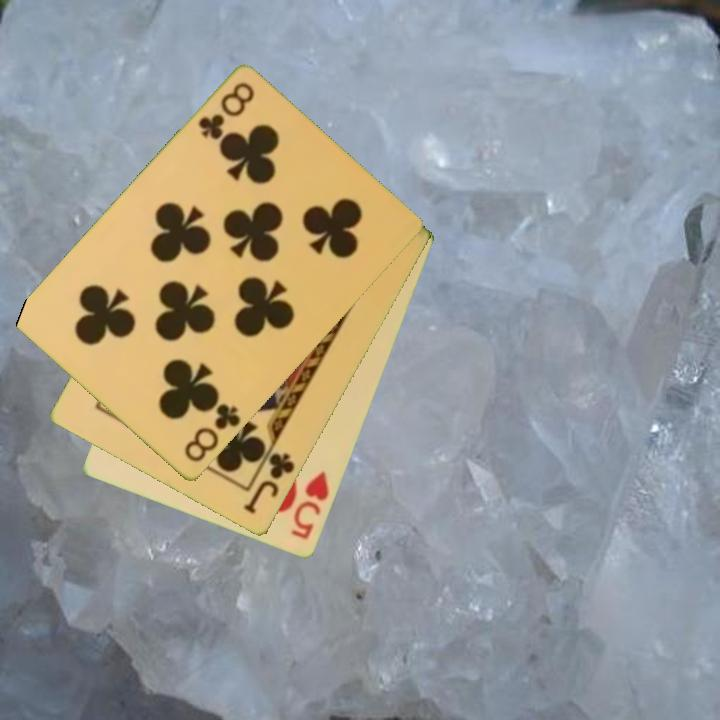5h: (287, 468, 333, 543)
8c: (194, 79, 258, 144), (181, 400, 244, 466)
Jc: (240, 449, 298, 518)
